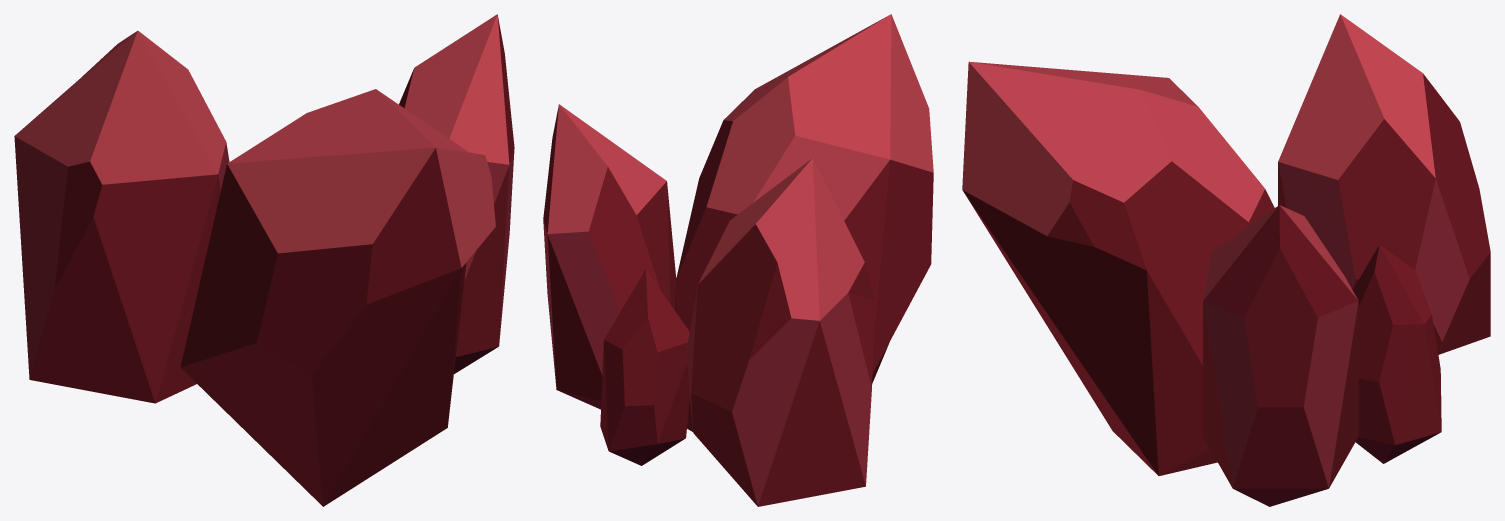
Rendered from CrimsoniteRock2.glb.
3 views of the same model, side by side, from view 1: azimuth 30°, elevation 25°; view 2: azimuth 150°, elevation 25°; view 3: azimuth 270°, elevation 25° (orthographic). The views are drawn at different scales.
Visible parts, largest first — view 1: CrimsoniteRock2; view 2: CrimsoniteRock2; view 3: CrimsoniteRock2.
Boxes of the visible parts, left/top/right/bottom form: CrimsoniteRock2: left=14, top=14, right=514, bottom=506; CrimsoniteRock2: left=543, top=14, right=933, bottom=506; CrimsoniteRock2: left=962, top=14, right=1490, bottom=506.
Bounding box in the file's own units: 0.8324 × 0.7668 × 0.95.
